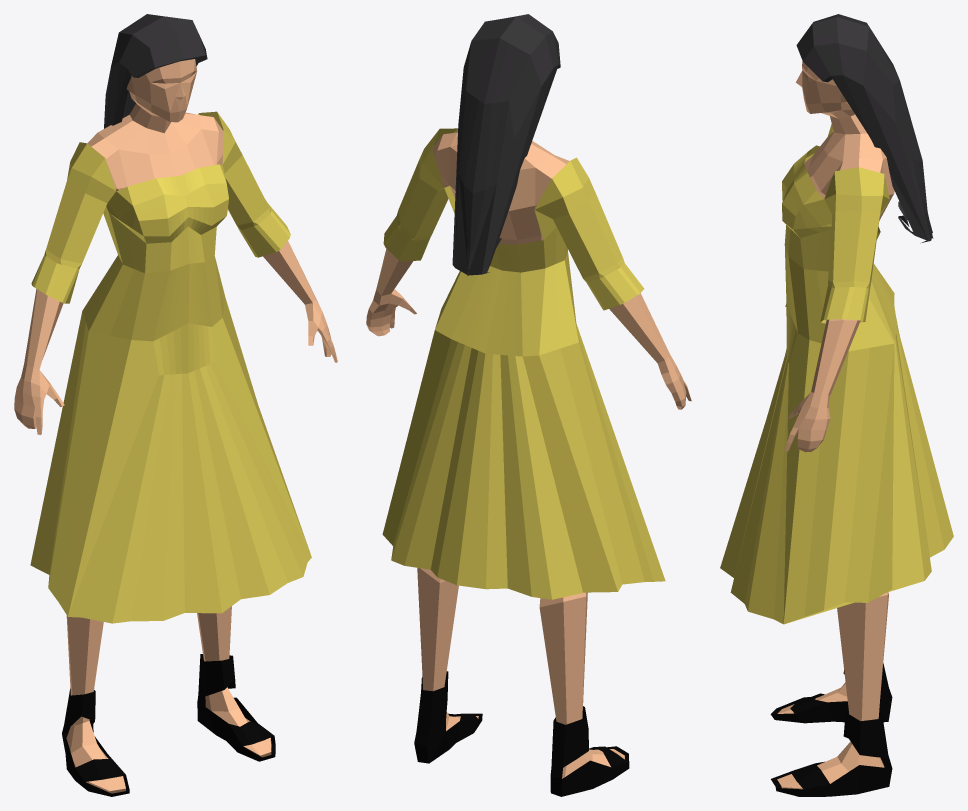
Rendered from girl3.fbx.
The picture shows the model from 3 angles, left to right: view 1: azimuth 30°, elevation 25°; view 2: azimuth 150°, elevation 25°; view 3: azimuth 270°, elevation 25°; orthographic projection.
Visible parts, largest first — view 1: female.008; view 2: female.008; view 3: female.008.
Boxes of the visible parts, x1,y1,x2,y2 form: female.008: (14, 14, 337, 796); female.008: (366, 14, 691, 796); female.008: (720, 14, 953, 796).
Size of the model in its own units: 149 by 338 by 97.27.
